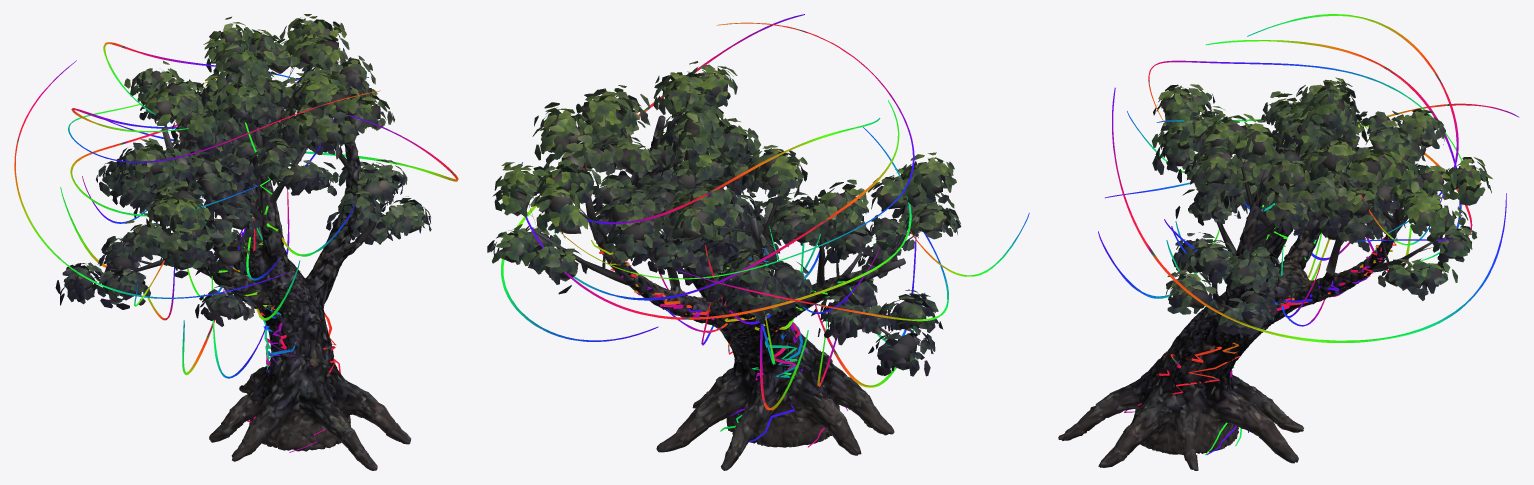
Rendered from agac_gokkusagi.glb.
The picture shows the model from 3 angles, left to right: view 1: azimuth 30°, elevation 25°; view 2: azimuth 150°, elevation 25°; view 3: azimuth 270°, elevation 25°; orthographic projection. The views are drawn at different scales.
Visible parts, largest first — view 1: agac_gokkusagi_LOD0; view 2: agac_gokkusagi_LOD0; view 3: agac_gokkusagi_LOD0.
Boxes of the visible parts, box(x1,y1,x2,y2) form: agac_gokkusagi_LOD0: box(14, 14, 458, 470); agac_gokkusagi_LOD0: box(487, 14, 1029, 470); agac_gokkusagi_LOD0: box(1058, 14, 1519, 470).
Size of what is drawn, in the model's own units: 12.31 by 10.89 by 12.62.
2 materials, 1 textured.
